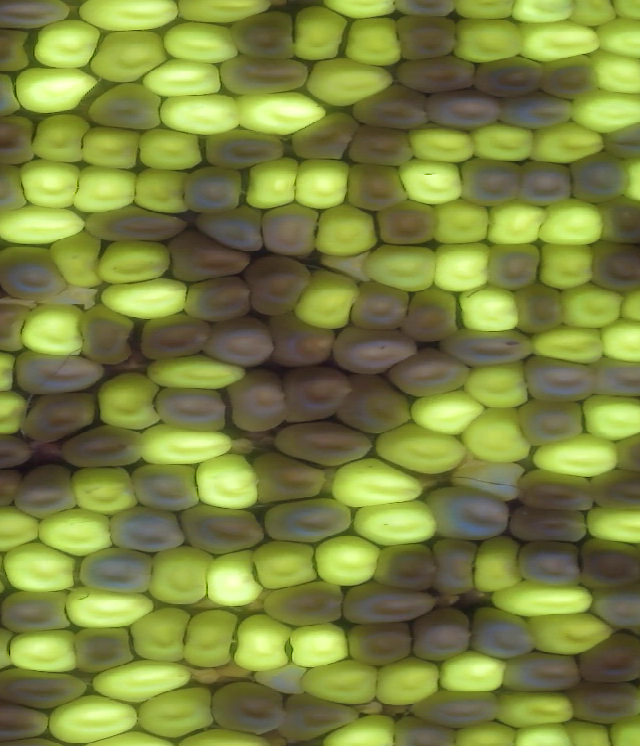fluorescent: (326, 453, 429, 515), (371, 418, 472, 479), (41, 688, 142, 746), (87, 656, 200, 707), (132, 682, 223, 745), (231, 82, 333, 137), (524, 607, 620, 665), (134, 420, 239, 471), (457, 403, 538, 469), (530, 428, 625, 483), (13, 61, 106, 117), (305, 55, 395, 112), (60, 580, 157, 632), (87, 25, 167, 88), (16, 298, 93, 363), (405, 385, 491, 443), (351, 495, 443, 549), (33, 504, 120, 561), (98, 272, 197, 322), (90, 231, 175, 289), (310, 528, 387, 592), (145, 348, 252, 394), (292, 265, 361, 336), (93, 367, 165, 435), (144, 541, 217, 608), (489, 578, 599, 622), (225, 609, 297, 676), (194, 449, 268, 514), (513, 16, 607, 67), (153, 87, 245, 139), (196, 545, 267, 612), (392, 152, 473, 210), (0, 539, 81, 597), (27, 16, 104, 77), (311, 197, 383, 262), (245, 535, 323, 594), (360, 242, 442, 298), (72, 1, 192, 39), (0, 199, 93, 248), (447, 14, 531, 68), (455, 279, 529, 340), (370, 651, 445, 711), (288, 1, 353, 70), (461, 356, 537, 415), (301, 655, 385, 708), (468, 531, 533, 599), (25, 108, 94, 171), (160, 18, 244, 69), (4, 626, 87, 677), (129, 604, 195, 668), (553, 279, 634, 331), (487, 686, 580, 731), (177, 607, 238, 675), (480, 195, 555, 250), (47, 228, 109, 294), (532, 237, 602, 295), (69, 158, 140, 215), (529, 117, 608, 168), (534, 195, 611, 247), (343, 13, 408, 74), (290, 152, 355, 213), (568, 84, 640, 139), (427, 195, 500, 249), (527, 321, 609, 369), (131, 124, 209, 174), (403, 119, 481, 169), (67, 463, 142, 515), (431, 235, 494, 296), (136, 55, 227, 97), (466, 119, 544, 168), (130, 162, 194, 221), (17, 154, 83, 211), (435, 645, 510, 695), (245, 152, 301, 217), (575, 391, 640, 445), (316, 708, 407, 746), (77, 122, 143, 174), (290, 618, 356, 670), (585, 42, 640, 98), (170, 1, 275, 28), (583, 501, 640, 549), (0, 499, 47, 555), (595, 313, 640, 367), (591, 15, 640, 62), (317, 1, 406, 26), (564, 1, 622, 33), (511, 718, 577, 746), (451, 1, 522, 24), (0, 386, 30, 439), (603, 711, 640, 746)
nonfluorescent: (330, 369, 419, 440), (163, 226, 259, 291), (326, 321, 428, 382), (274, 362, 363, 430), (422, 480, 519, 542), (238, 247, 317, 321), (259, 491, 360, 548), (176, 500, 273, 559), (270, 417, 378, 469), (205, 675, 294, 738), (380, 344, 475, 402), (8, 344, 108, 399), (12, 389, 103, 448), (336, 580, 442, 630), (261, 309, 342, 374), (518, 349, 607, 408), (255, 577, 350, 632), (150, 381, 240, 439), (283, 107, 367, 169), (0, 240, 77, 307), (217, 46, 316, 98), (81, 76, 168, 135), (175, 272, 265, 329), (346, 79, 436, 135), (437, 323, 537, 373), (80, 201, 191, 246), (248, 449, 332, 508), (52, 420, 149, 471), (130, 457, 208, 520), (512, 462, 601, 517), (277, 689, 362, 746), (106, 501, 194, 556), (463, 603, 541, 665), (511, 393, 594, 451), (409, 602, 478, 670), (225, 7, 303, 67), (9, 460, 81, 524), (132, 310, 215, 365), (76, 543, 159, 598), (195, 201, 272, 260), (344, 276, 416, 339), (201, 315, 281, 371), (255, 200, 327, 262), (201, 125, 292, 174), (497, 648, 588, 697), (0, 584, 78, 641), (0, 664, 92, 712), (411, 685, 509, 730), (342, 156, 415, 216), (75, 302, 139, 370), (392, 51, 486, 97), (505, 500, 592, 549), (70, 623, 143, 681), (449, 457, 532, 508), (339, 619, 418, 672), (422, 86, 506, 135), (513, 538, 589, 592), (455, 156, 529, 211), (492, 87, 578, 134), (575, 532, 640, 594), (471, 54, 550, 105), (179, 163, 252, 218), (509, 277, 573, 338), (389, 12, 464, 64), (399, 285, 464, 345), (346, 118, 420, 170), (514, 157, 583, 212), (577, 630, 640, 690), (569, 678, 640, 730), (566, 149, 633, 204), (534, 50, 606, 101), (374, 195, 441, 247), (585, 238, 640, 296), (483, 239, 543, 292), (0, 691, 57, 746), (586, 581, 640, 634), (386, 710, 464, 746), (586, 463, 640, 514), (585, 354, 640, 404), (0, 1, 76, 35), (594, 108, 640, 164), (595, 193, 640, 250), (0, 291, 35, 359), (0, 109, 39, 169), (0, 157, 33, 220), (0, 23, 35, 78), (0, 428, 36, 476), (609, 430, 640, 479)
